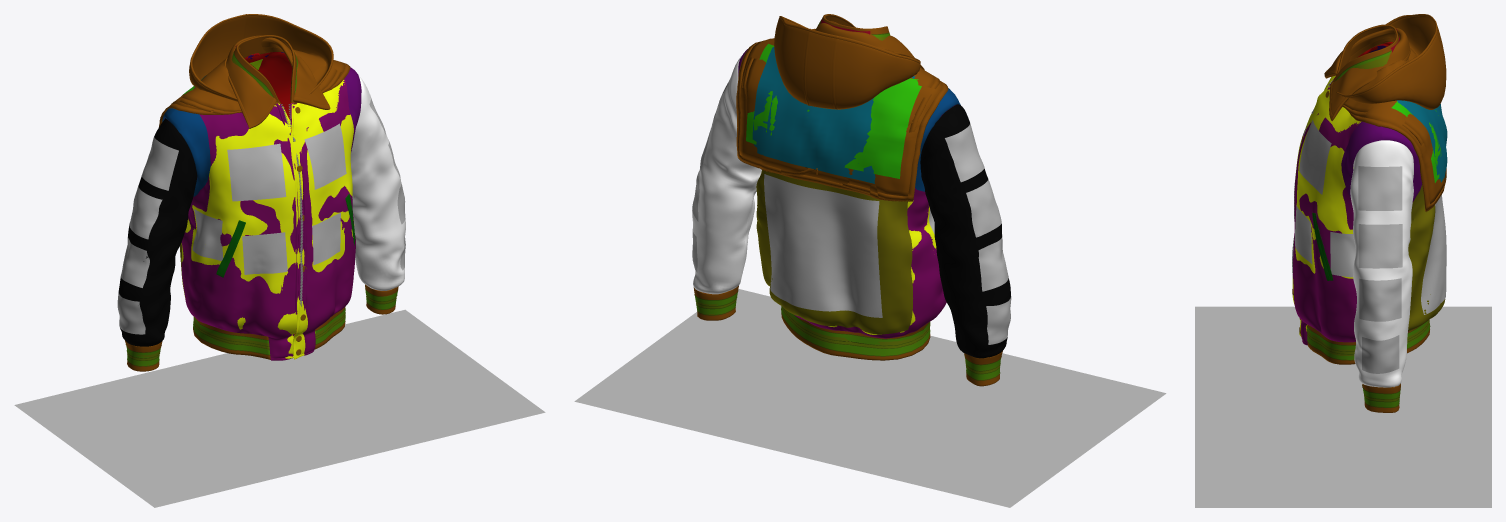
The picture shows the model from 3 angles, left to right: view 1: azimuth 30°, elevation 25°; view 2: azimuth 150°, elevation 25°; view 3: azimuth 270°, elevation 25°; orthographic projection. The views are drawn at different scales.
Visible parts, largest first — view 1: shadow, Jacket_zipper, Jacket_snaps, sleeves_L, sleeves_R, collar_hoodie, collar_byron, patch10, Shoulder_Inserts, Collar_RetroSailor.001, patch9, patch12 (+14 smaller); view 2: shadow, patch8, sleeves_R, sleeves_L, collar_hoodie, Patch_Collar_RetroSailor, patch_Backjacket, collar_sailorwithzipper.001, patch_collar_sailorwithzipper, Jacket_zipper, Collar_RetroSailor.001, Knit_Trim_2lines (+9 smaller); view 3: shadow, sleeves_L, Jacket_zipper, collar_hoodie, Jacket_snaps, collar_byron, patch_Backjacket, collar_sailorwithzipper.001, patch4, patch7, patch8, Shoulder_Inserts (+14 smaller).
Part boxes in pixels (x1=…): shadow: x1=14, y1=309, x2=545, y2=507; Jacket_zipper: x1=164, y1=78, x2=355, y2=360; Jacket_snaps: x1=181, y1=80, x2=354, y2=359; sleeves_L: x1=350, y1=75, x2=405, y2=290; sleeves_R: x1=118, y1=118, x2=197, y2=346; collar_hoodie: x1=189, y1=14, x2=333, y2=101; collar_byron: x1=226, y1=35, x2=330, y2=128; patch10: x1=227, y1=143, x2=286, y2=201; Shoulder_Inserts: x1=162, y1=67, x2=361, y2=196; Collar_RetroSailor.001: x1=170, y1=49, x2=341, y2=114; patch9: x1=304, y1=123, x2=346, y2=189; patch12: x1=242, y1=232, x2=287, y2=274; shadow: x1=574, y1=289, x2=1166, y2=507; patch8: x1=764, y1=174, x2=882, y2=317; sleeves_R: x1=920, y1=104, x2=1010, y2=358; sleeves_L: x1=692, y1=56, x2=761, y2=294; collar_hoodie: x1=774, y1=16, x2=920, y2=109; Patch_Collar_RetroSailor: x1=752, y1=47, x2=915, y2=183; patch_Backjacket: x1=756, y1=170, x2=913, y2=334; collar_sailorwithzipper.001: x1=736, y1=28, x2=948, y2=201; patch_collar_sailorwithzipper: x1=746, y1=43, x2=921, y2=178; Jacket_zipper: x1=795, y1=105, x2=955, y2=338; Collar_RetroSailor.001: x1=742, y1=29, x2=939, y2=200; Knit_Trim_2lines: x1=695, y1=292, x2=1000, y2=379; shadow: x1=1195, y1=306, x2=1491, y2=507; sleeves_L: x1=1350, y1=140, x2=1413, y2=387; Jacket_zipper: x1=1292, y1=78, x2=1413, y2=345; collar_hoodie: x1=1336, y1=14, x2=1446, y2=109; Jacket_snaps: x1=1292, y1=75, x2=1360, y2=336; collar_byron: x1=1324, y1=28, x2=1410, y2=120; patch_Backjacket: x1=1408, y1=184, x2=1445, y2=331; collar_sailorwithzipper.001: x1=1343, y1=62, x2=1446, y2=211; patch4: x1=1358, y1=224, x2=1402, y2=268; patch7: x1=1358, y1=166, x2=1402, y2=210; patch8: x1=1421, y1=195, x2=1446, y2=314; Shoulder_Inserts: x1=1341, y1=121, x2=1421, y2=202.
Size of the model in its own units: 20.22 by 17.79 by 12.59.
